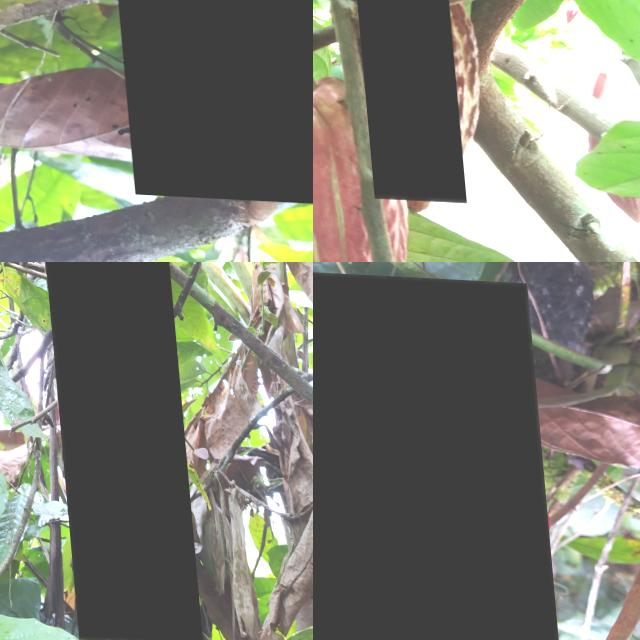Fitoftora: (39, 262, 192, 640), (343, 0, 457, 198)
Monilia: (313, 267, 553, 640), (94, 0, 313, 203)
Sana: (313, 75, 399, 262)
